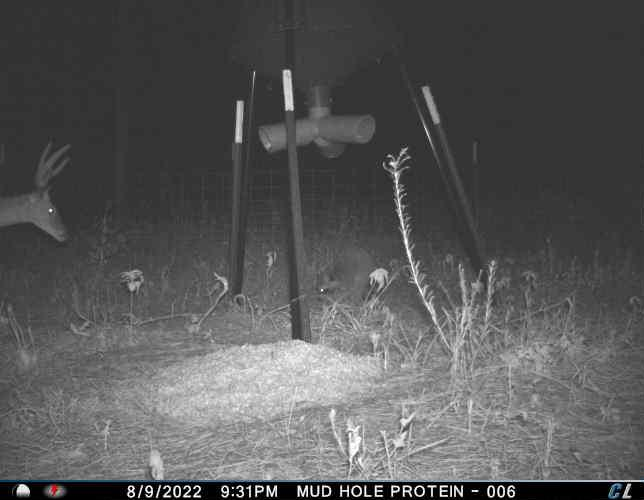Deer: (0, 138, 83, 248)
Raccoon: (314, 244, 382, 313)
